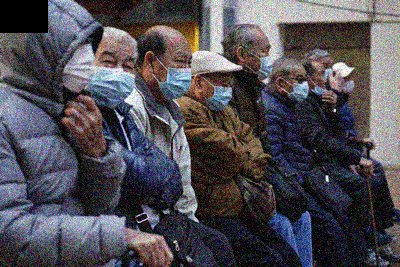mask_weared_incorrect: (312, 69, 328, 98)
with_mask: (90, 49, 136, 110), (61, 39, 96, 95), (157, 50, 193, 103), (205, 73, 233, 113), (251, 42, 274, 82), (285, 71, 311, 104), (322, 61, 335, 86), (342, 75, 357, 95)
